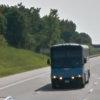Bus: (46, 40, 89, 90)
